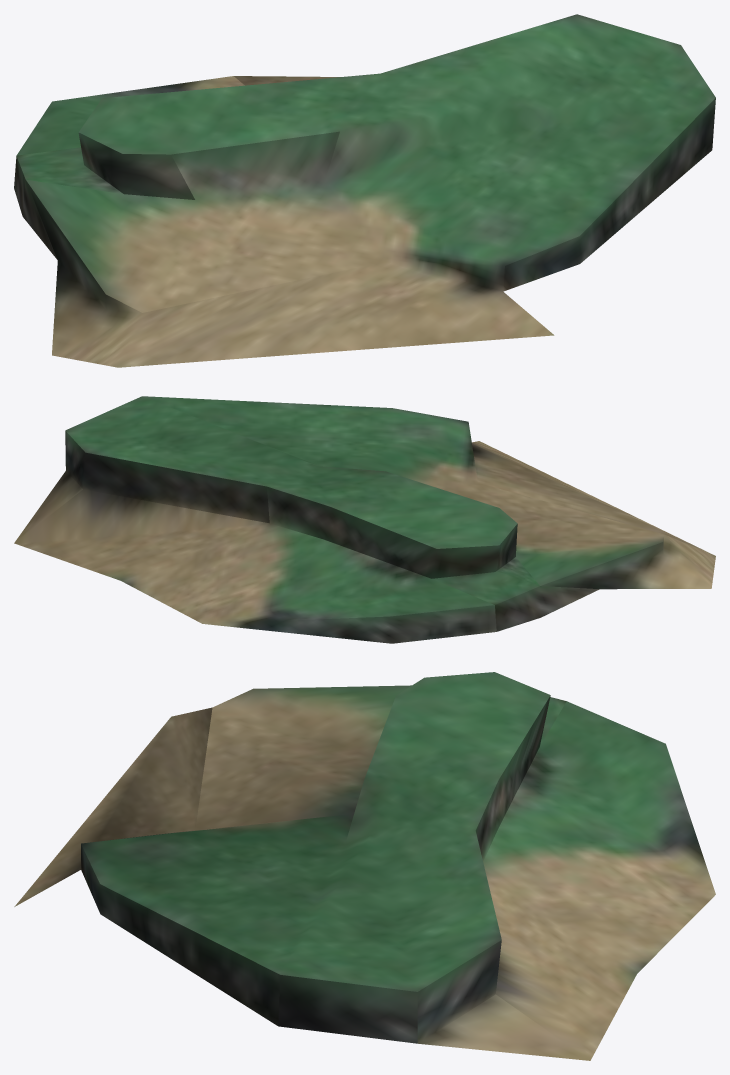
Rendered from pir_m_are_isl_pvpFrench_low.fbx.
3 renders of one model, top to bottom at view 1: azimuth 30°, elevation 25°; view 2: azimuth 150°, elevation 25°; view 3: azimuth 270°, elevation 25°, orthographic. The views are drawn at different scales.
Visible parts, largest first — view 1: horizon_lod; view 2: horizon_lod; view 3: horizon_lod.
Boxes of the visible parts, x1=… form: horizon_lod: x1=14, y1=14, x2=715, y2=367; horizon_lod: x1=14, y1=396, x2=715, y2=643; horizon_lod: x1=14, y1=672, x2=715, y2=1060.
Bounding box in the file's own units: 97347 × 13895 × 78408.
Materials: 1 (1 with a texture image).
